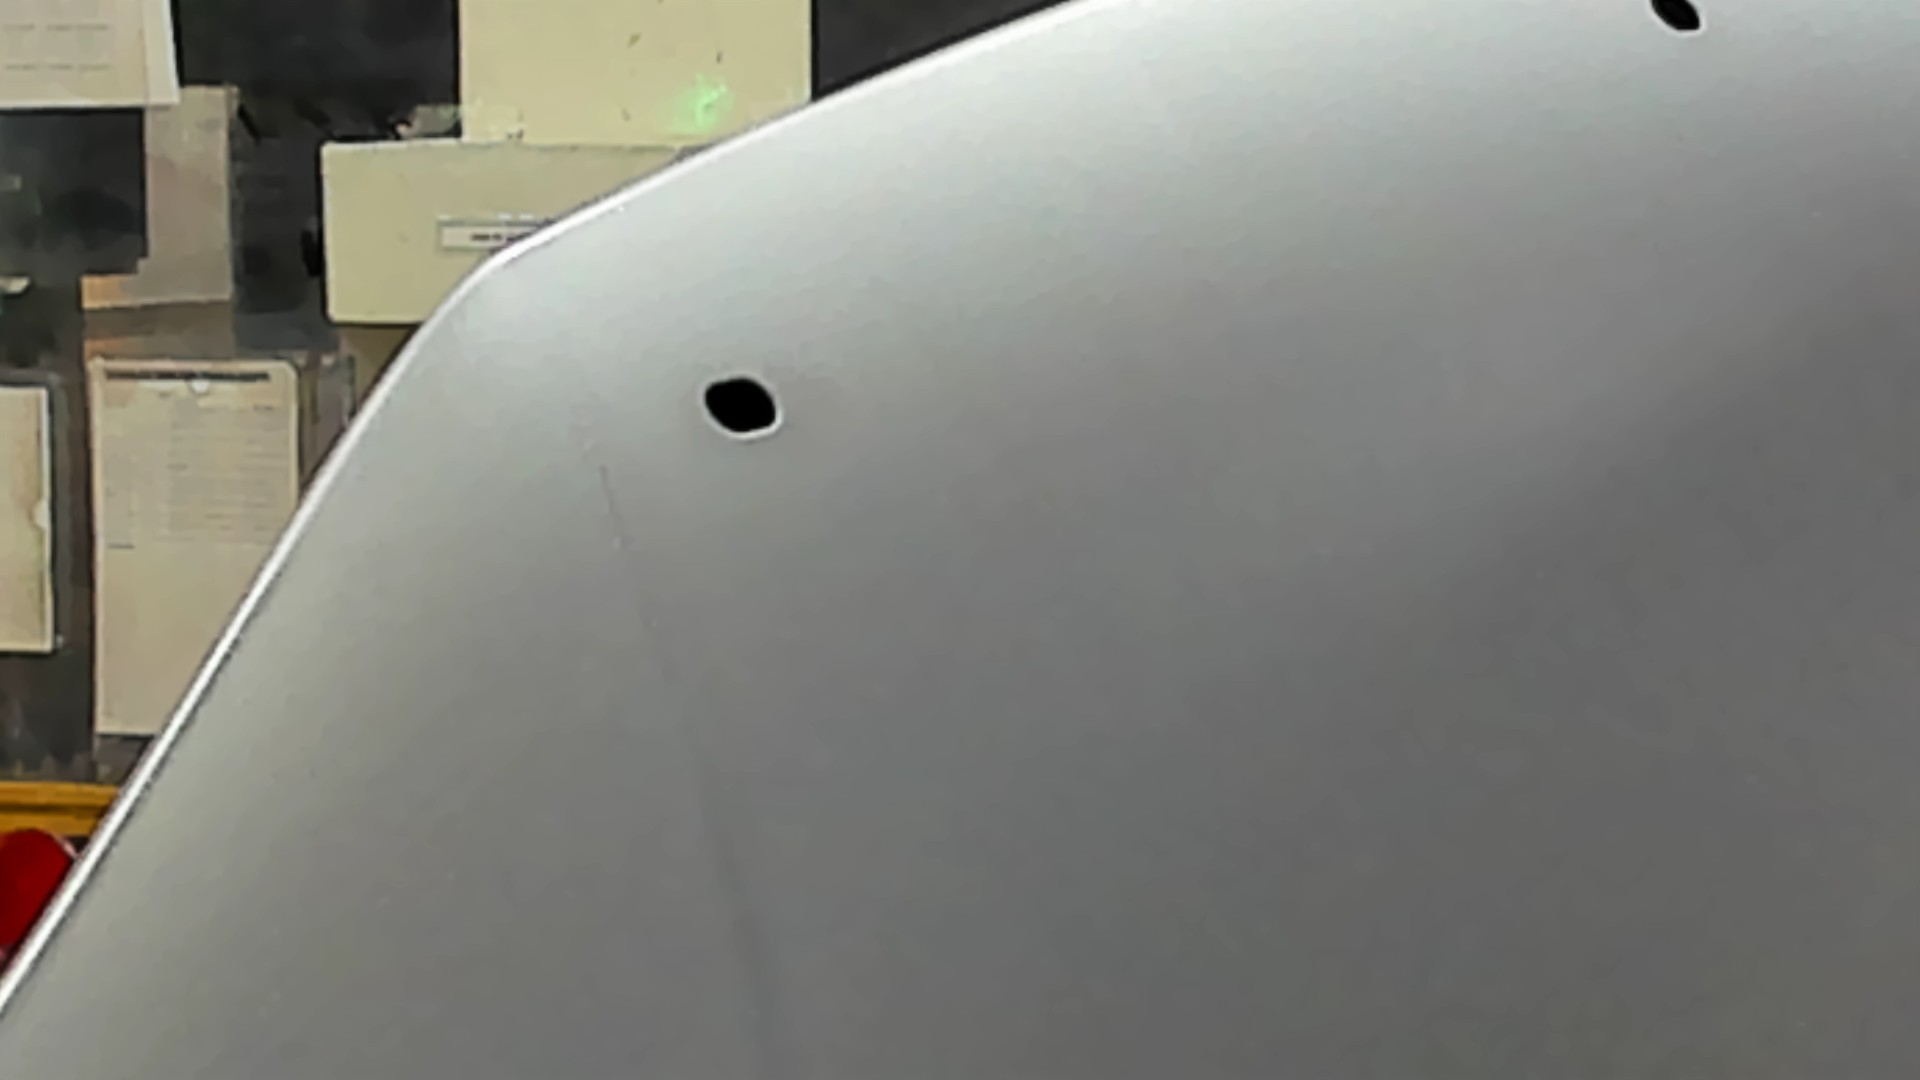chico: (686, 372, 798, 460), (1629, 1, 1724, 49)
